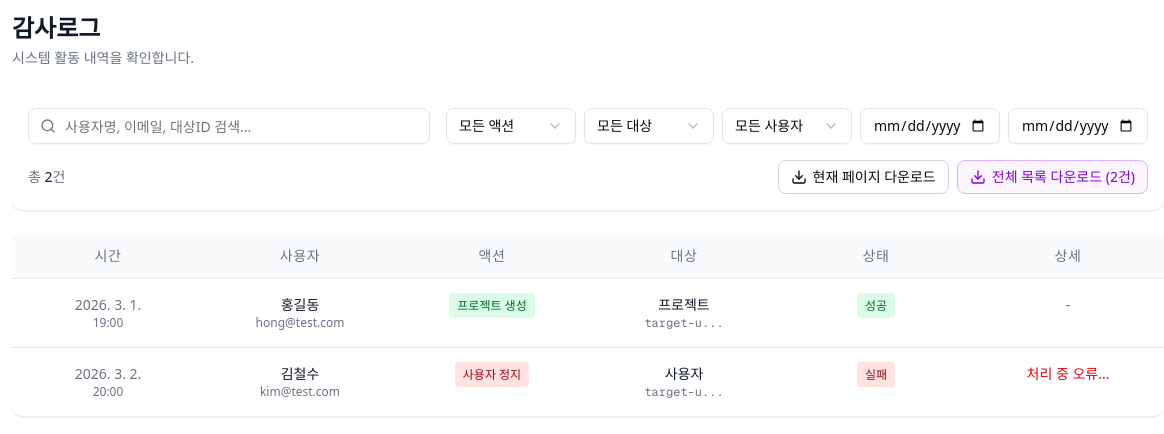
AuditLogClient › 검색어 + 필터 조합 › 검색어가 있으면 "(검색 결과: N건)" 텍스트가 표시된다
This screenshot has width=1164, height=434.
Type "홍길동" into the field with placeholder "사용자명, 이메일, 대상ID 검색..." at (229, 126), box [28,108,430,144]
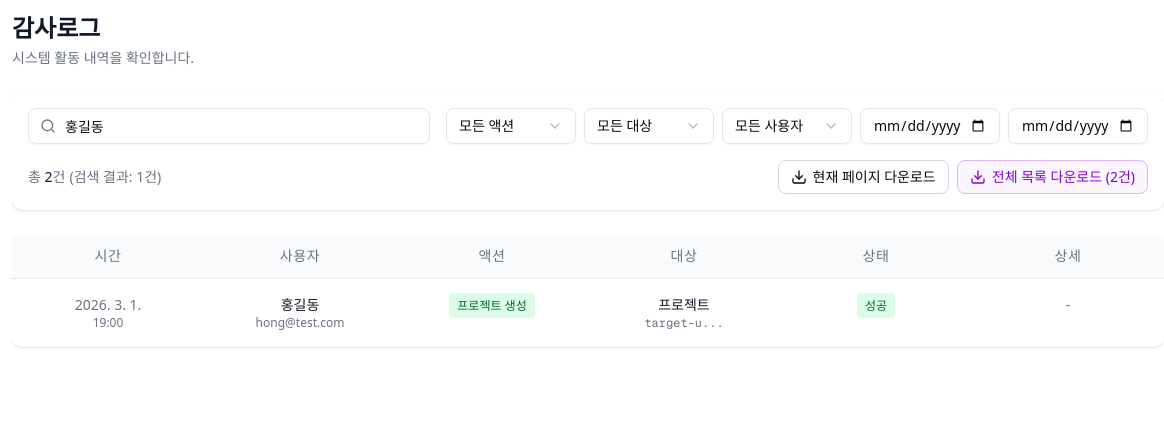
expect the text "(검색 결과: 1건)" is shown: met, box [69,167,161,186]
